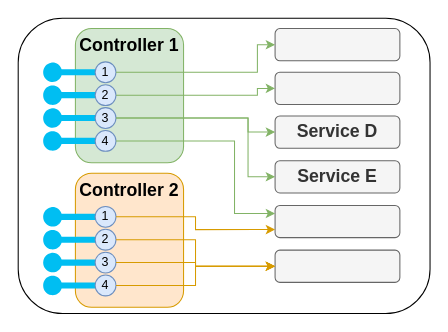
The diagram is 448 pixels wide and 332 high, and some of its shapes have lost their labels. The shapes that lost their labels are listed below. From the top down, each one's centre as x and y in pixels, then its label:
the point at 337,44: Service A
the point at 337,88: Service C
the point at 337,221: Service F
the point at 337,265: Service B
